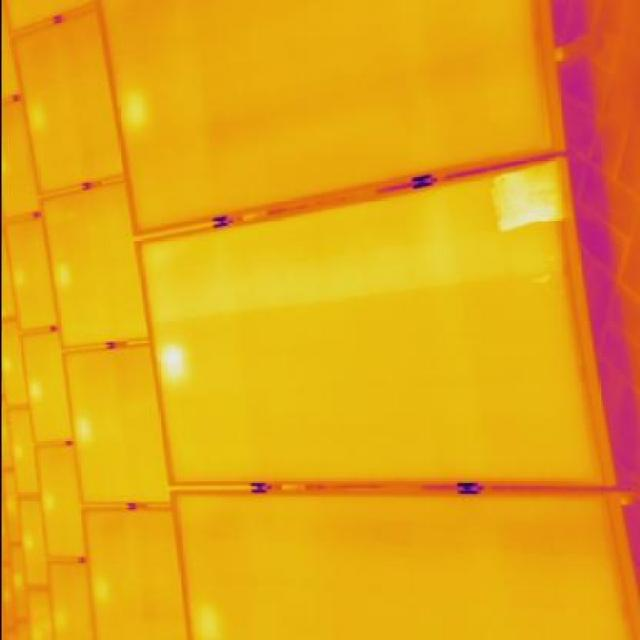hotspot: (484, 160, 582, 232)
